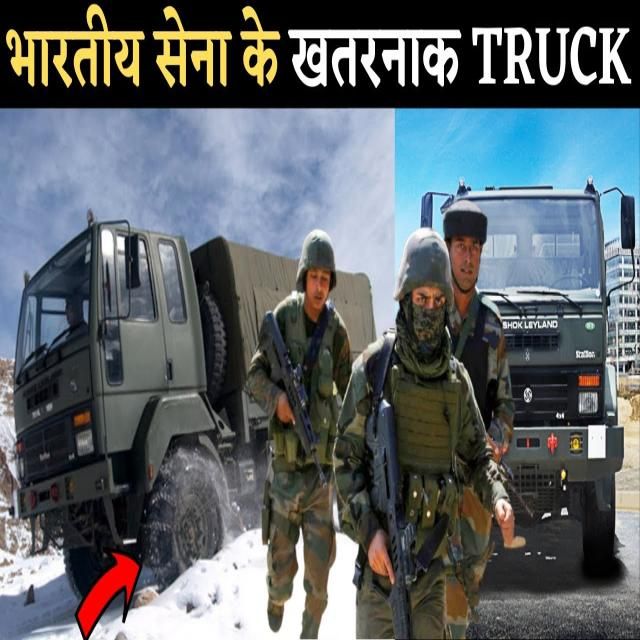truck: (12, 213, 296, 591), (421, 176, 636, 572)
